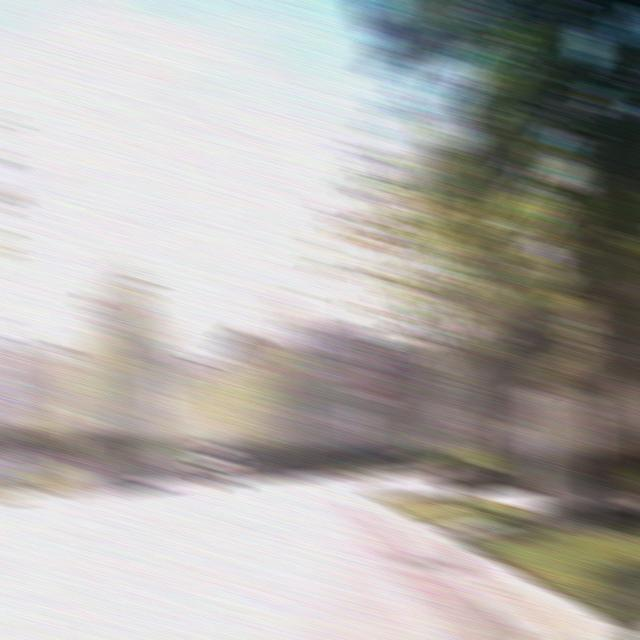stop: (356, 360, 394, 400)
